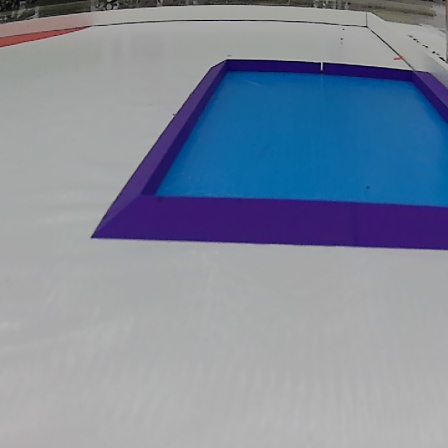blue_aim: (82, 51, 448, 259)
red_base: (0, 19, 77, 45)
